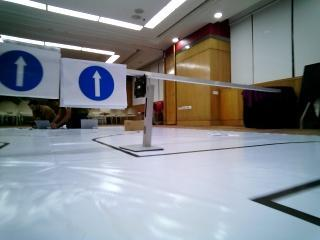straight: (63, 60, 127, 107), (2, 42, 58, 95)
